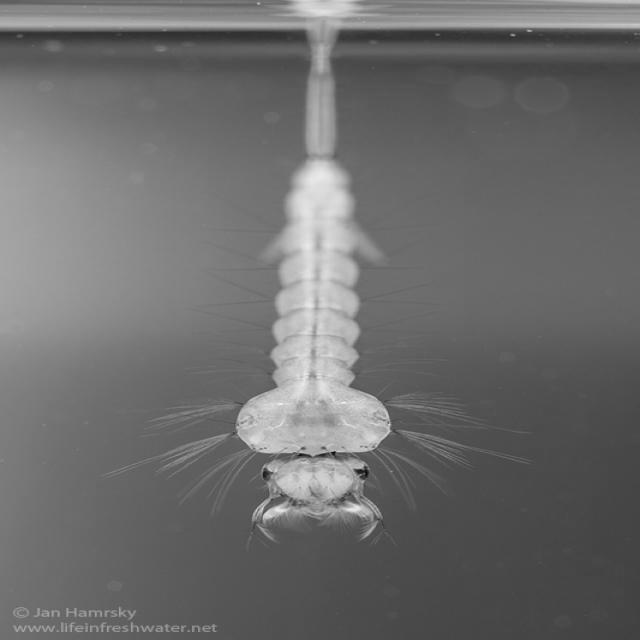larvas: (235, 5, 393, 543)
